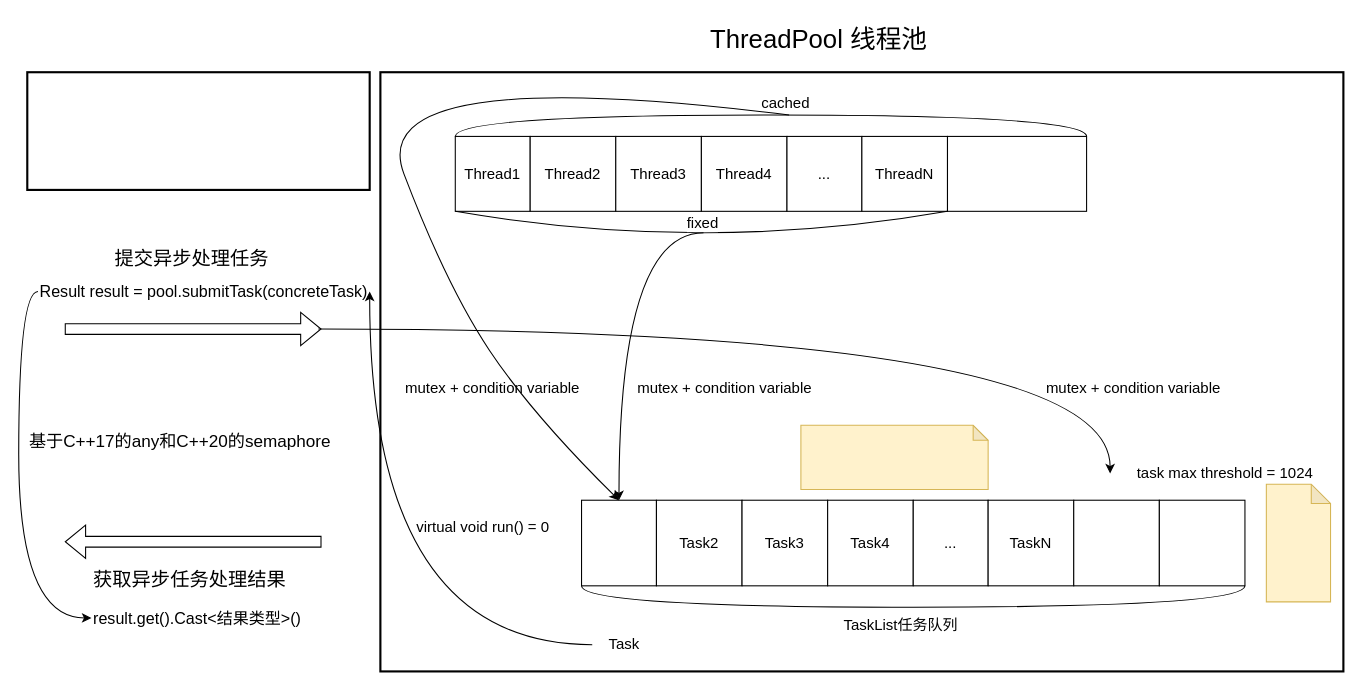
This 1363x690 diagram has some shape labels left out. The centre of each missing label's shape, as x and y in pixels:
"cached动态增长..." belongs at (1016,173).
"condition_variable type notFull/notEmpty" belongs at (894,457).
"Task1" belongs at (618,542).
"ThreadPool pool; pool.setMode(fixed(default)|cached); pool.start();" belongs at (198,130).
"线程安全" belongs at (1298,542).
